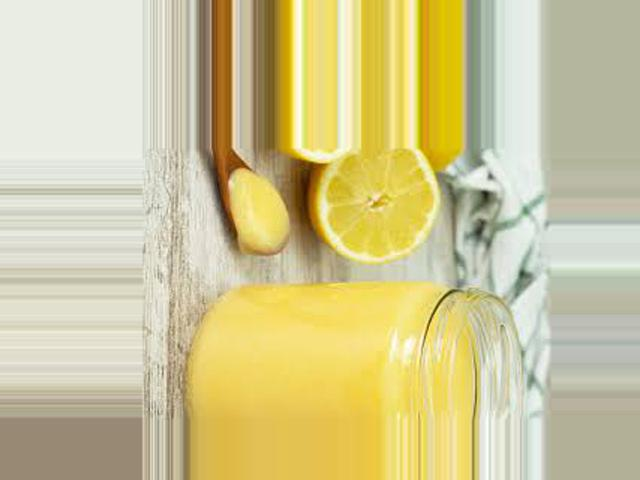lemon: (309, 153, 442, 262)
